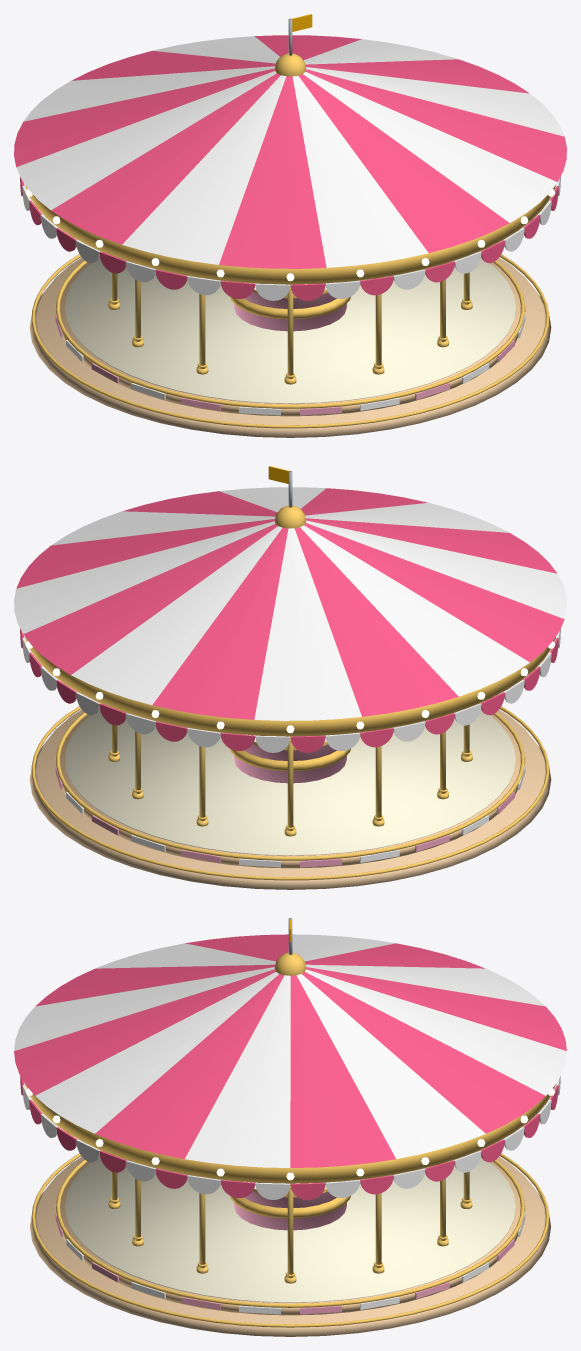
The model's file is carousel.glb.
3 renders of one model, top to bottom at view 1: azimuth 30°, elevation 25°; view 2: azimuth 150°, elevation 25°; view 3: azimuth 270°, elevation 25°, orthographic.
Visible parts, largest first — view 1: spinner_toon_ffffff, spinner_toon_ff5d8f, spinner_toon_fefae0, base_toon_f1cfa6, spinner_toon_ffd166, spinner_toon_ffd6a5, spinner_toon_ffafcc, base_toon_ffd166, spinner_toon_e9c46a, spinner_glow_fff3b0; view 2: spinner_toon_ffffff, spinner_toon_ff5d8f, spinner_toon_fefae0, base_toon_f1cfa6, spinner_toon_ffd166, spinner_toon_ffd6a5, spinner_toon_ffafcc, base_toon_ffd166, spinner_toon_e9c46a, spinner_glow_fff3b0; view 3: spinner_toon_ffffff, spinner_toon_ff5d8f, spinner_toon_fefae0, base_toon_f1cfa6, spinner_toon_ffd166, spinner_toon_ffd6a5, spinner_toon_ffafcc, base_toon_ffd166, spinner_toon_e9c46a, spinner_glow_fff3b0.
Part boxes in pixels (x1,y1,x2,y2): spinner_toon_ffffff: [16, 36, 564, 415]; spinner_toon_ff5d8f: [14, 35, 566, 300]; spinner_toon_fefae0: [65, 253, 515, 403]; base_toon_f1cfa6: [29, 249, 551, 437]; spinner_toon_ffd166: [24, 53, 555, 408]; spinner_toon_ffd6a5: [60, 252, 520, 416]; spinner_toon_ffafcc: [55, 281, 525, 415]; base_toon_ffd166: [31, 248, 549, 428]; spinner_toon_e9c46a: [111, 256, 469, 378]; spinner_glow_fff3b0: [25, 189, 555, 281]; spinner_toon_ffffff: [14, 487, 566, 867]; spinner_toon_ff5d8f: [16, 488, 564, 752]; spinner_toon_fefae0: [65, 705, 515, 855]; base_toon_f1cfa6: [29, 701, 551, 889]; spinner_toon_ffd166: [25, 505, 556, 860]; spinner_toon_ffd6a5: [60, 704, 520, 868]; spinner_toon_ffafcc: [55, 733, 525, 867]; base_toon_ffd166: [31, 699, 549, 880]; spinner_toon_e9c46a: [111, 708, 469, 830]; spinner_glow_fff3b0: [25, 641, 555, 733]; spinner_toon_ffffff: [14, 934, 566, 1314]; spinner_toon_ff5d8f: [14, 934, 566, 1199]; spinner_toon_fefae0: [65, 1152, 515, 1302]; base_toon_f1cfa6: [30, 1149, 550, 1336]; spinner_toon_ffd166: [25, 952, 555, 1307]; spinner_toon_ffd6a5: [60, 1151, 520, 1315]; spinner_toon_ffafcc: [55, 1182, 525, 1314]; base_toon_ffd166: [31, 1146, 549, 1327]; spinner_toon_e9c46a: [111, 1154, 469, 1278]; spinner_glow_fff3b0: [26, 1088, 554, 1180].
Bounding box in the file's own units: 15.7 × 10.25 × 15.7.
